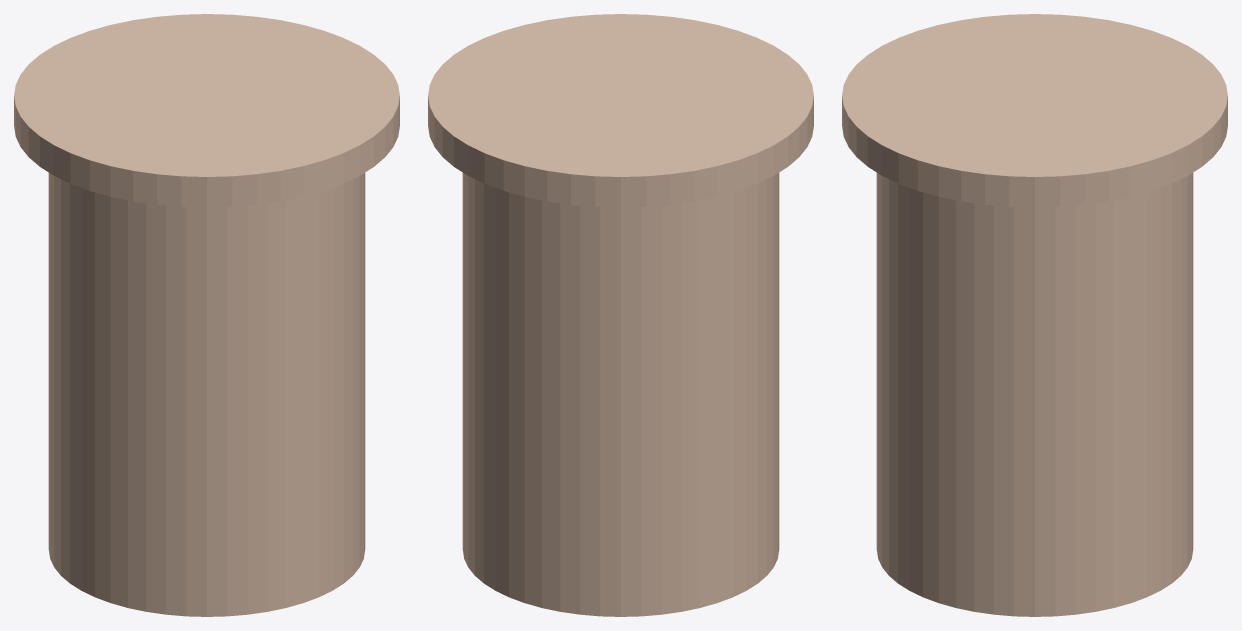
File: cove-side-table-clay.glb
3 views of the same model, side by side, from view 1: azimuth 30°, elevation 25°; view 2: azimuth 150°, elevation 25°; view 3: azimuth 270°, elevation 25° (orthographic).
Visible parts, largest first — view 1: geometry_0; view 2: geometry_0; view 3: geometry_0.
Boxes of the visible parts, x1,y1,x2,y2 form: geometry_0: (14, 14, 399, 616); geometry_0: (428, 14, 813, 616); geometry_0: (842, 14, 1227, 616).
Bounding box in the file's own units: 0.4 × 0.52 × 0.4.
